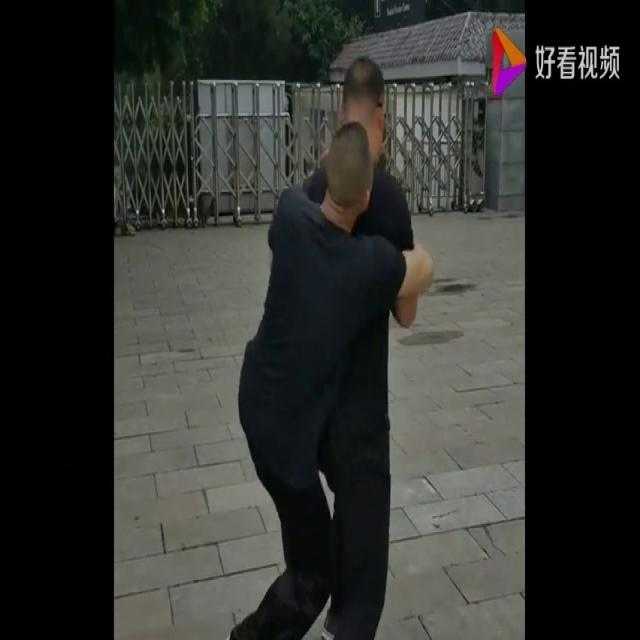fight: (202, 40, 443, 639)
